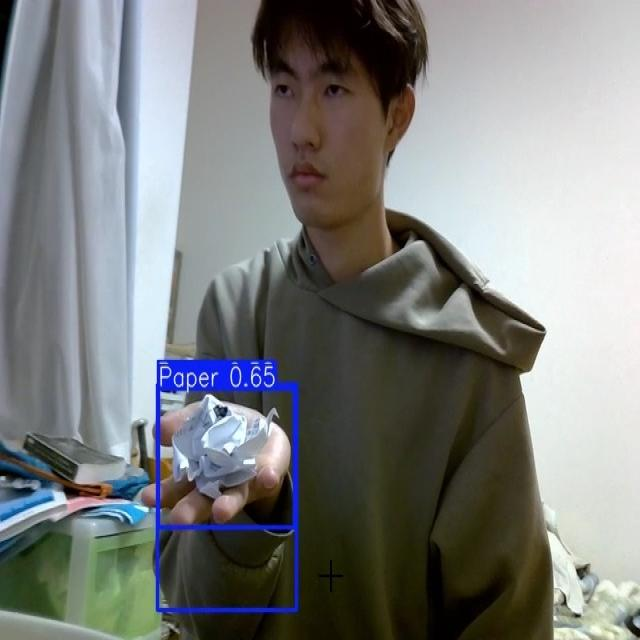paper: (170, 392, 279, 500)
